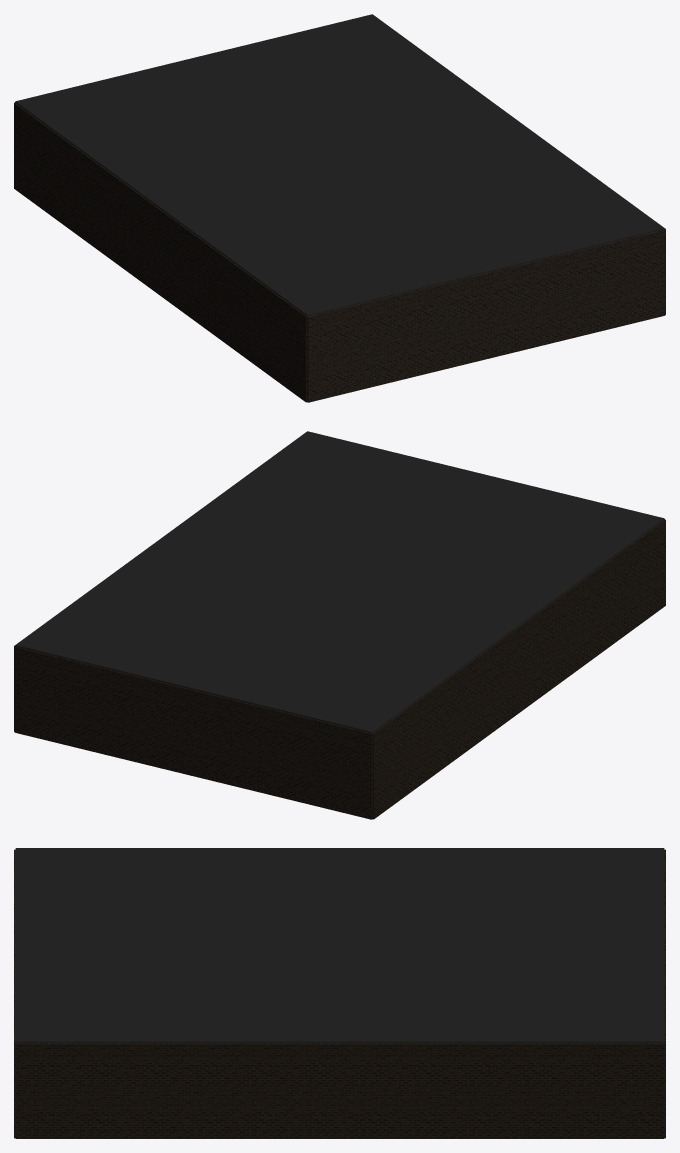
Rendered from pixel_vault_store.glb.
The picture shows the model from 3 angles, top to bottom: view 1: azimuth 30°, elevation 25°; view 2: azimuth 150°, elevation 25°; view 3: azimuth 270°, elevation 25°; orthographic projection. The views are drawn at different scales.
Visible parts, largest first — view 1: Store_Ceiling, Store_Wall, Store_Wall_Side; view 2: Store_Ceiling, Store_Wall, Store_Wall_Side; view 3: Store_Ceiling, Store_Wall_Side, Store_Wall.
Part boxes in pixels (box(x1,y1,x2,y2)): Store_Ceiling: box(15, 14, 664, 316); Store_Wall: box(14, 102, 665, 402); Store_Wall_Side: box(14, 103, 665, 402); Store_Ceiling: box(15, 431, 664, 733); Store_Wall: box(14, 519, 665, 819); Store_Wall_Side: box(14, 520, 665, 819); Store_Ceiling: box(15, 848, 664, 1042); Store_Wall_Side: box(15, 1043, 664, 1138); Store_Wall: box(14, 849, 665, 1138).
Size of the model in its own units: 24.18 by 5.6 by 34.18.
Materials: 89 (7 with a texture image).
